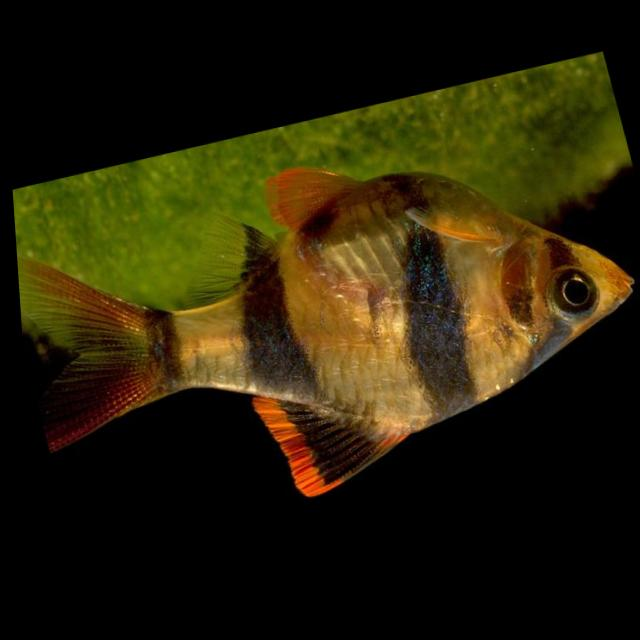fish: (6, 95, 640, 566)
